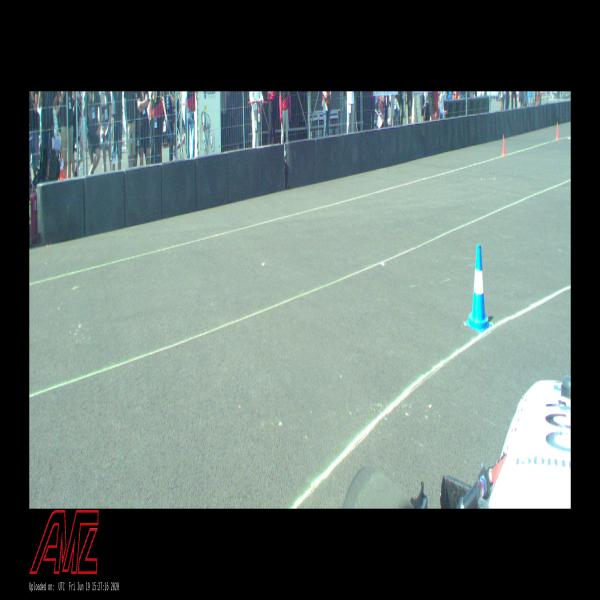blue_cone: (465, 244, 492, 332)
unknown_cone: (501, 134, 506, 156), (555, 122, 559, 140)
